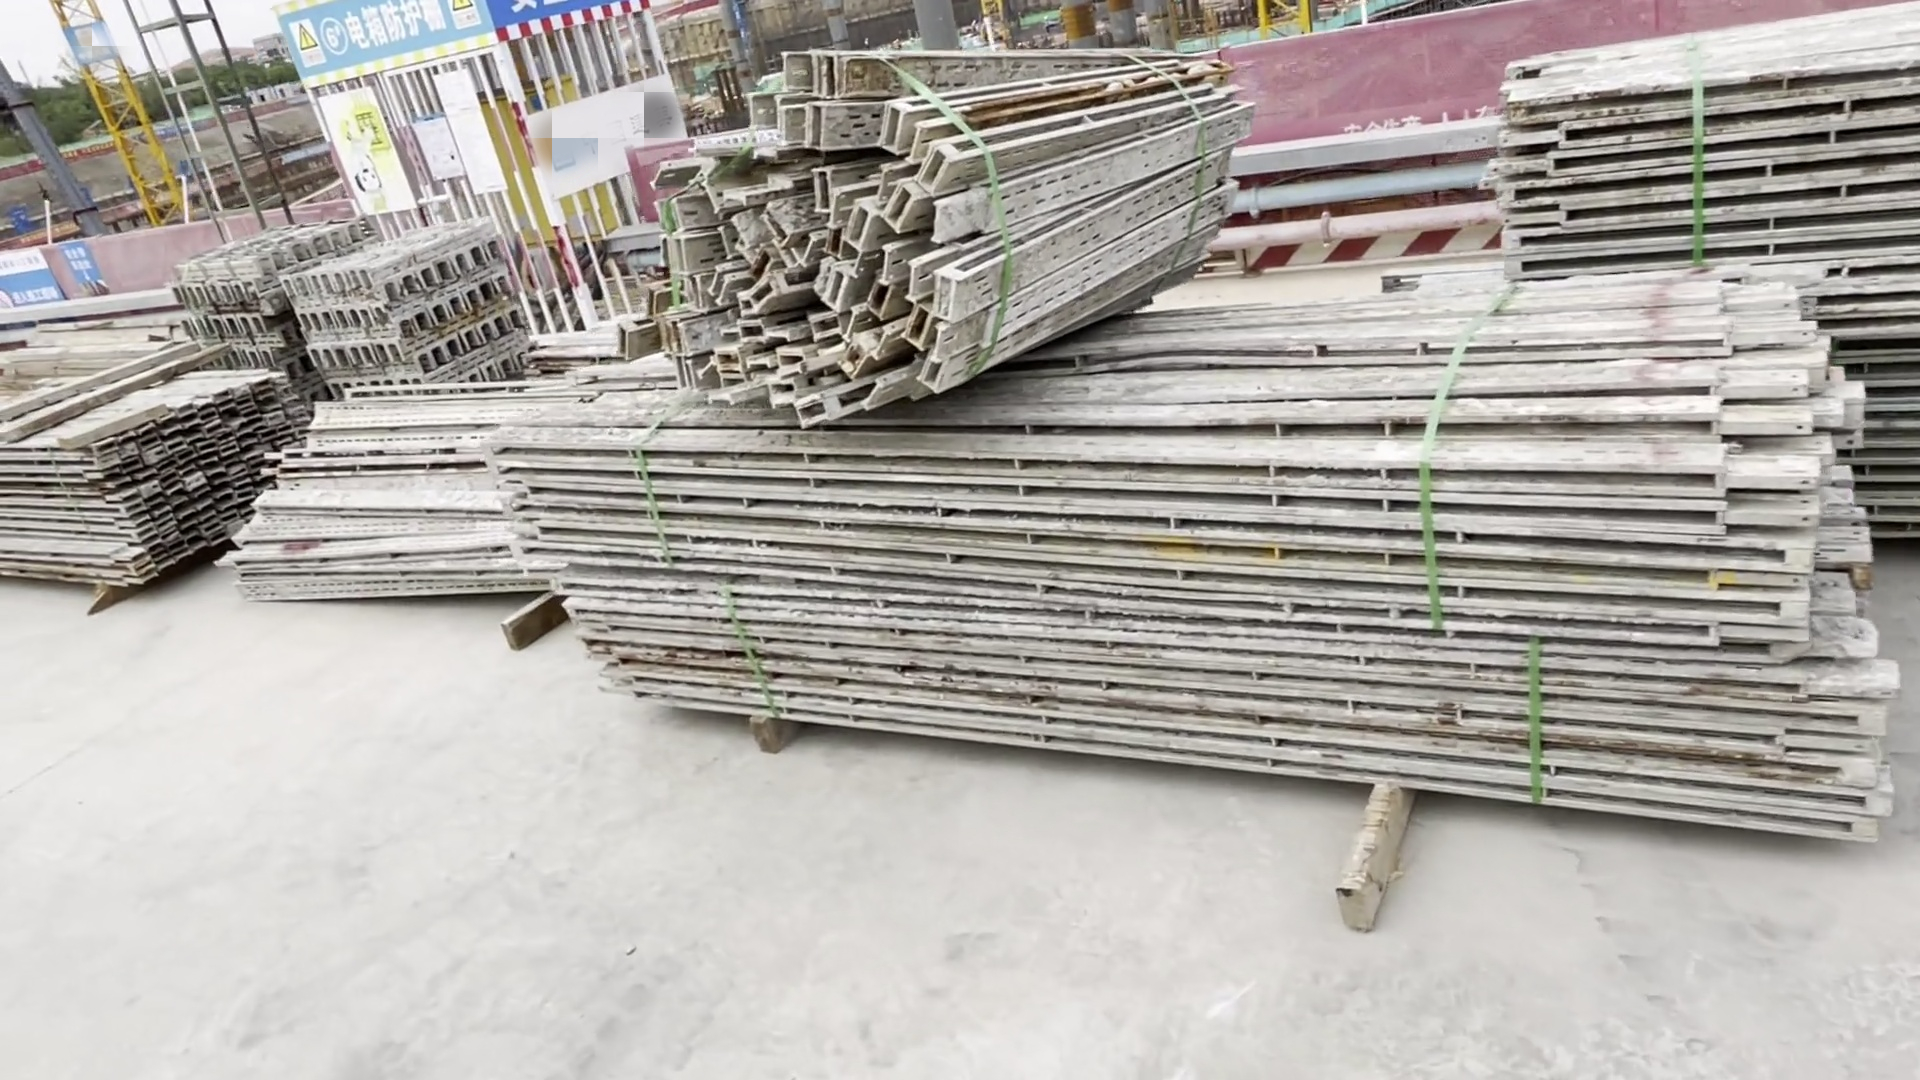ebox: (475, 73, 626, 247)
slogan: (285, 13, 324, 66)
